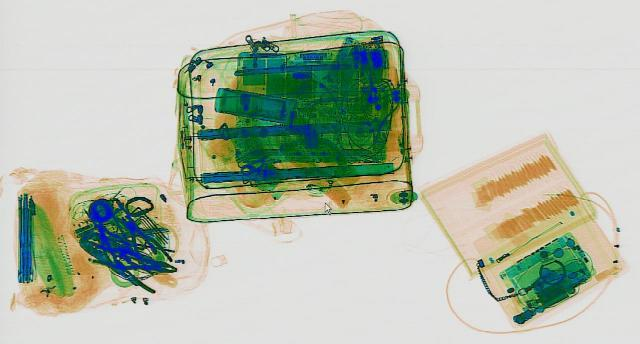Pliers: (62, 227, 186, 292), (86, 243, 186, 278), (110, 211, 172, 264)
